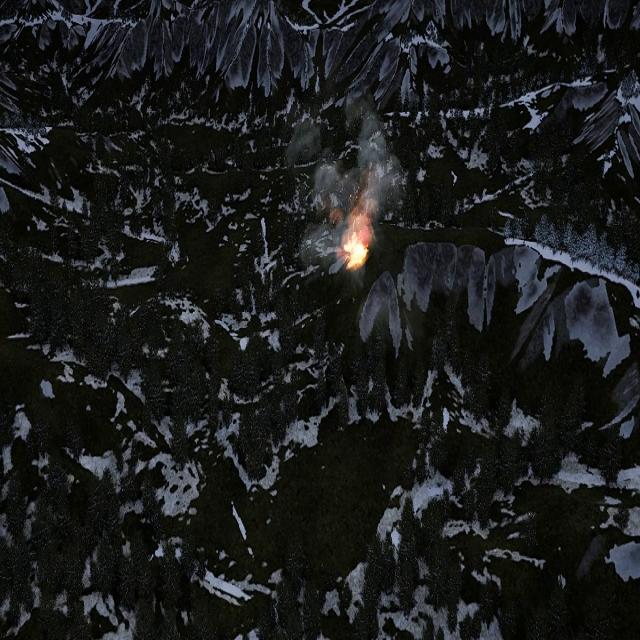fire: (344, 234, 369, 268)
smoke: (289, 92, 402, 270)
